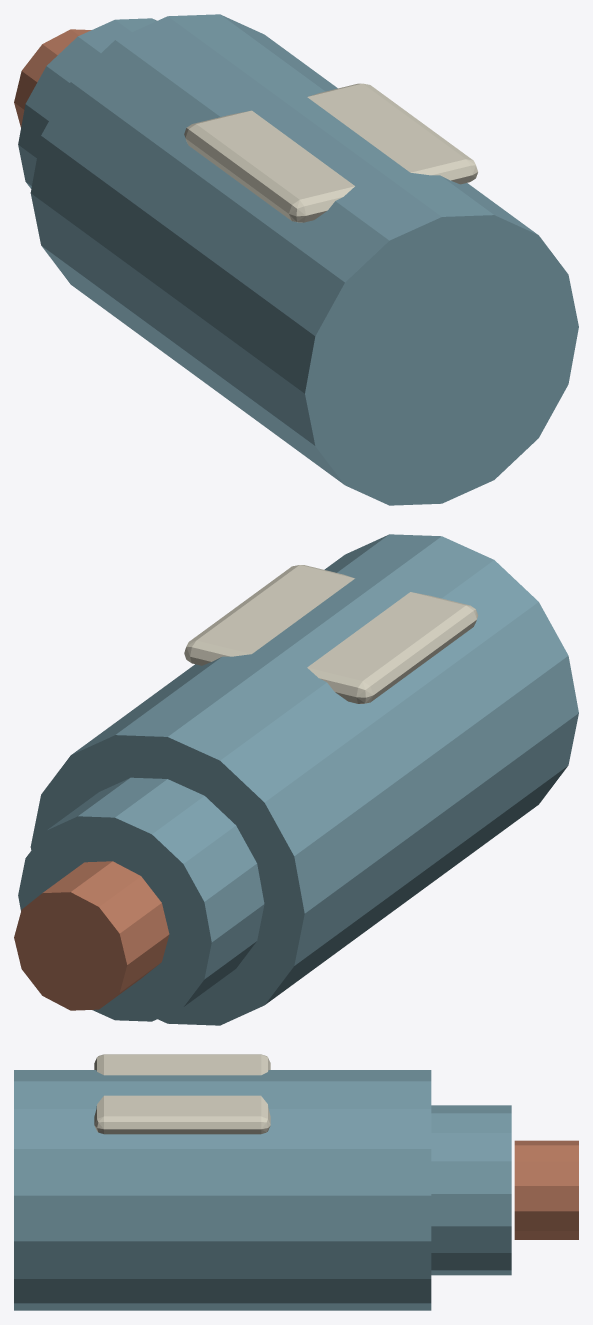
The model's file is bottle.glb.
3 views of the same model, one above another, from view 1: azimuth 30°, elevation 25°; view 2: azimuth 150°, elevation 25°; view 3: azimuth 270°, elevation 25° (orthographic). The views are drawn at different scales.
Parts seen in each view (by area): view 1: Trash_surface; view 2: Trash_surface; view 3: Trash_surface.
Boxes of the visible parts, box(x1,y1,x2,y2) form: Trash_surface: box(14, 14, 578, 505); Trash_surface: box(14, 534, 578, 1025); Trash_surface: box(14, 1054, 578, 1310).
Bounding box in the file's own units: 0.15 × 0.15 × 0.352.
